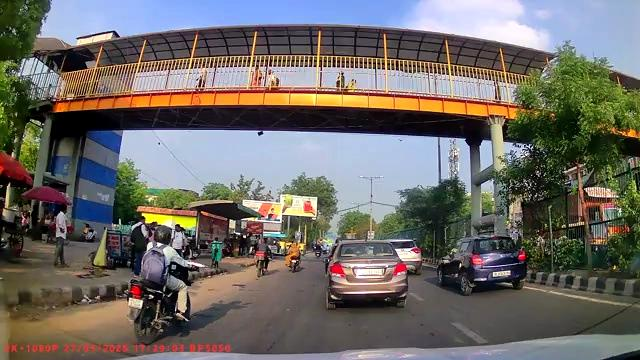motorcycle_with_helmet: (126, 220, 198, 343)
